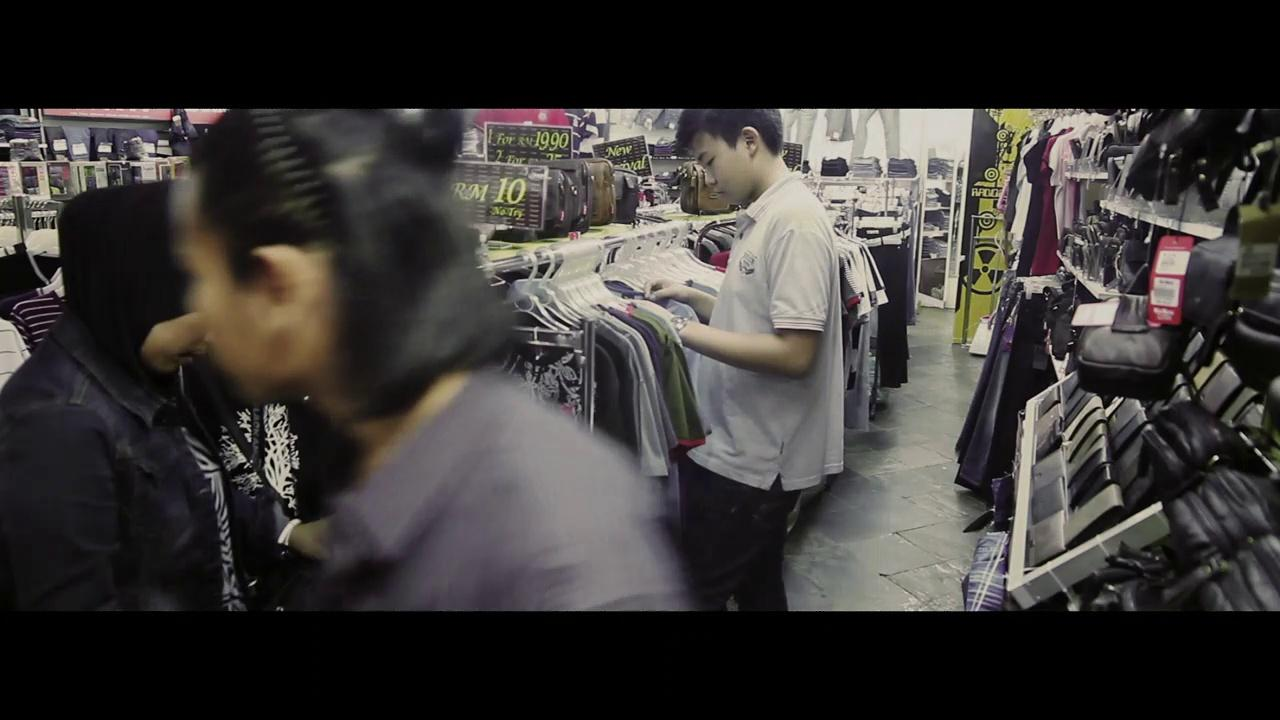Regular: (161, 101, 514, 617), (0, 152, 330, 615), (640, 105, 879, 612)
